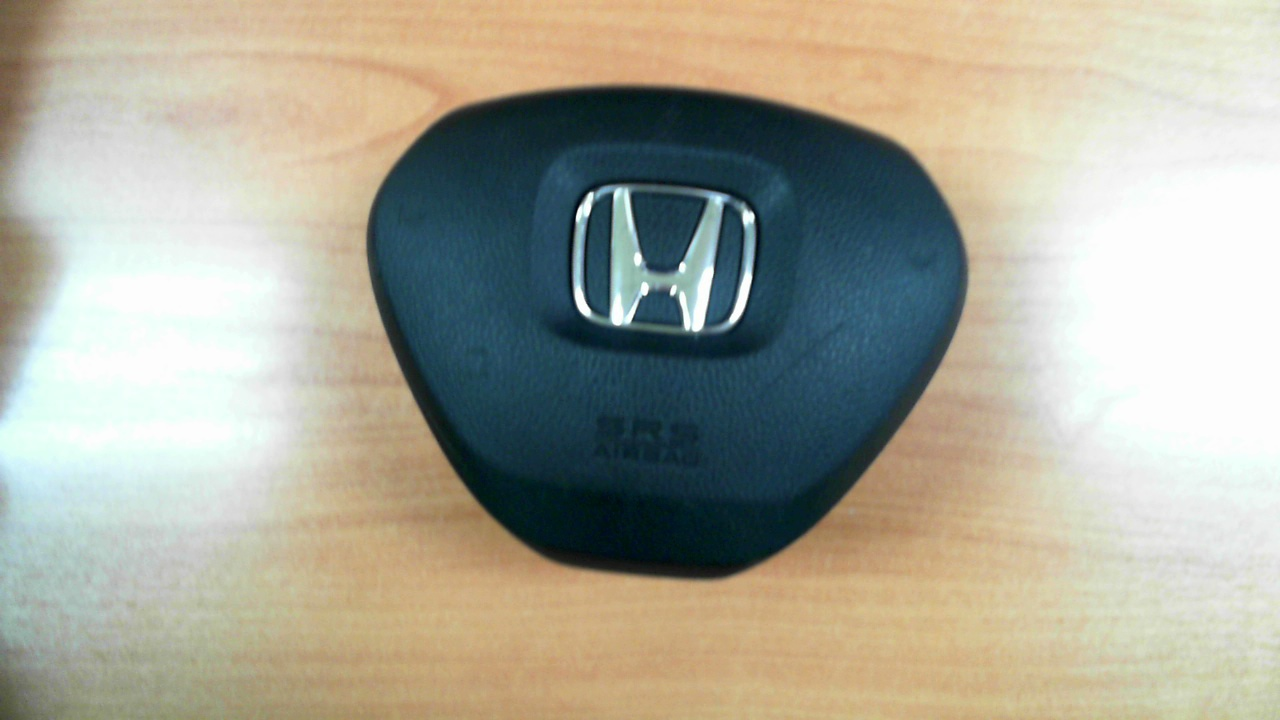Airbag: (365, 84, 969, 580)
Honda: (571, 183, 756, 337)
